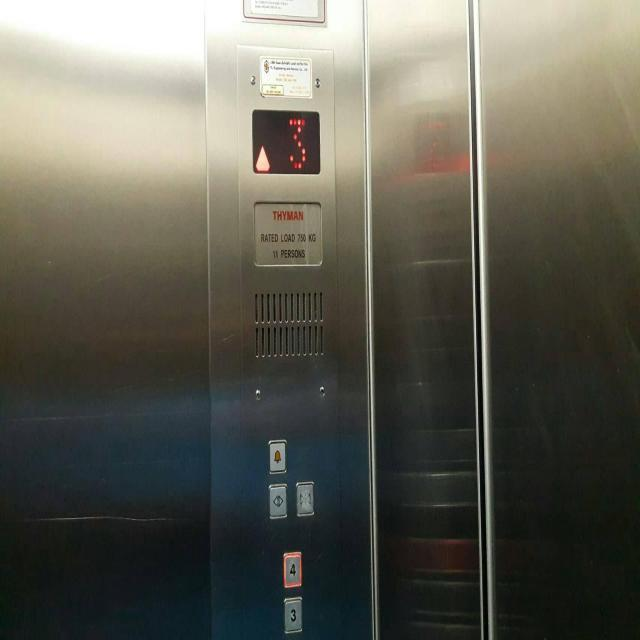3: (282, 596, 302, 634)
4: (282, 551, 301, 589)
alarm: (268, 437, 287, 474)
close: (294, 480, 315, 517)
led: (252, 110, 320, 176)
open: (268, 482, 287, 521)
